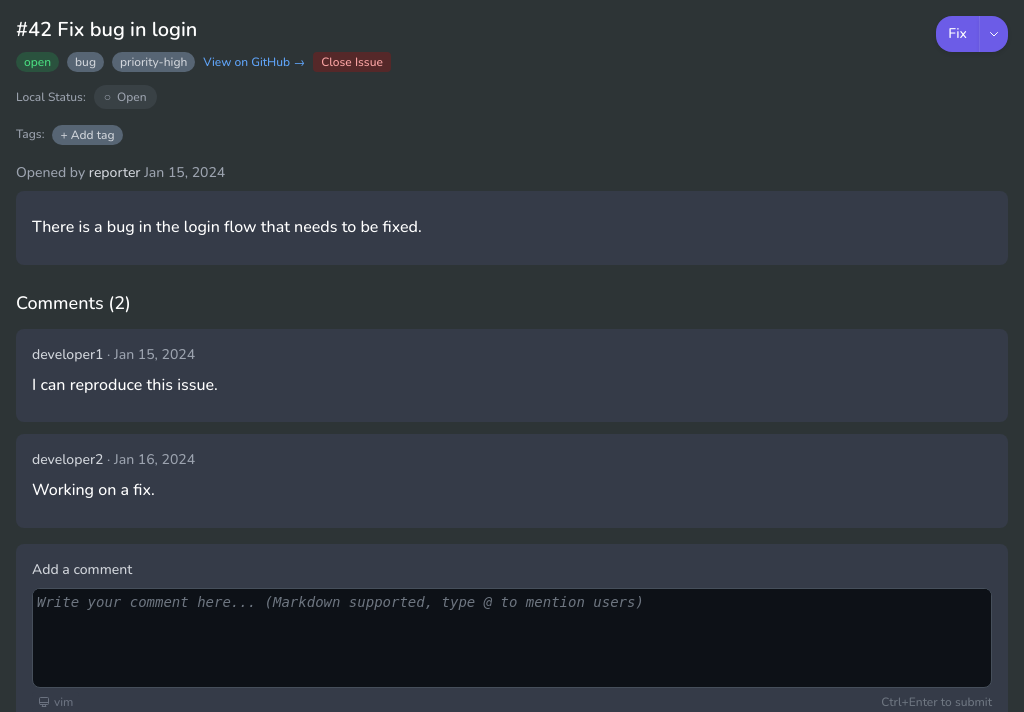
Test case: IssueDetail › Issue Actions › shows error message when close fails
Click the button "Close Issue": x=352, y=62 [313, 52, 391, 72]
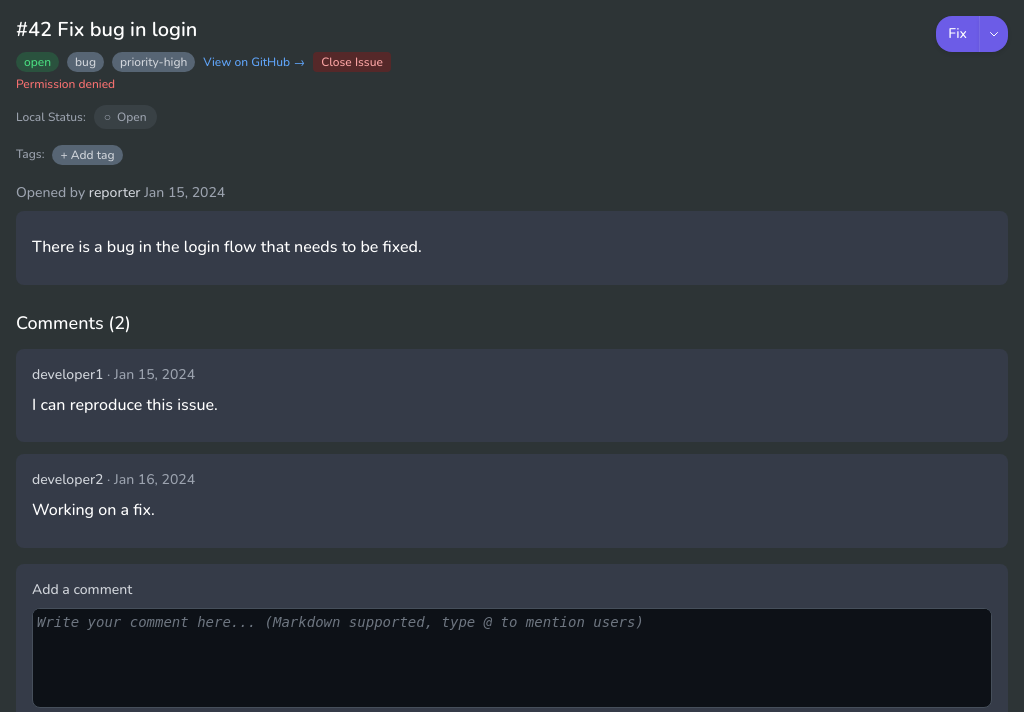
Result: the text "Permission denied" is shown at [16, 76, 115, 92]
